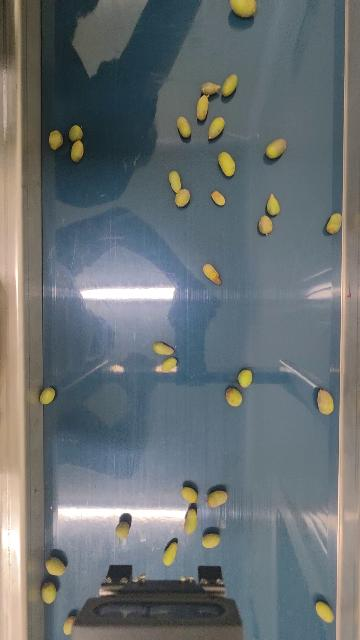Baby Potato: (228, 0, 258, 19), (217, 151, 237, 178), (265, 137, 288, 160), (314, 599, 335, 624), (206, 115, 226, 141), (316, 388, 335, 415), (202, 262, 222, 286), (221, 73, 239, 99), (195, 93, 211, 122), (162, 538, 178, 567), (183, 507, 199, 535), (206, 489, 229, 508), (175, 115, 193, 139), (45, 556, 65, 577), (224, 386, 243, 407), (326, 211, 343, 234), (41, 581, 57, 605), (152, 340, 176, 356), (174, 187, 192, 208), (69, 140, 85, 163), (167, 169, 183, 192), (265, 193, 281, 216), (199, 80, 222, 96), (257, 214, 273, 236), (48, 129, 64, 151), (201, 532, 221, 549), (237, 368, 253, 389), (181, 486, 199, 504), (39, 386, 56, 405), (160, 356, 178, 373), (115, 520, 130, 540), (62, 615, 76, 636), (210, 189, 226, 206), (68, 124, 83, 141)
